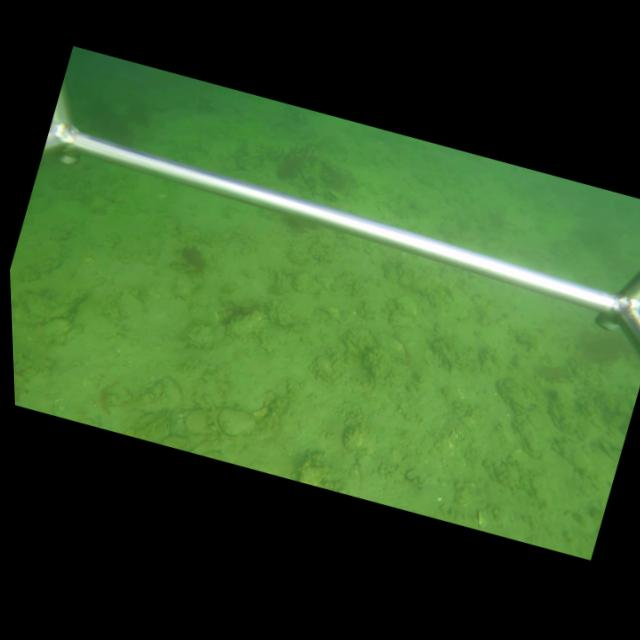Oyster-Closed: (496, 375, 542, 412)
Oyster-Open: (510, 410, 543, 460), (212, 405, 258, 440)
